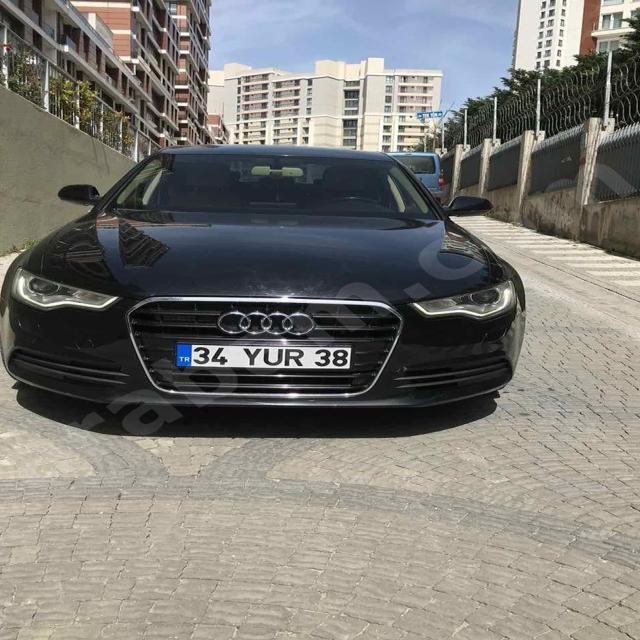license_plate: (175, 343, 352, 370)
